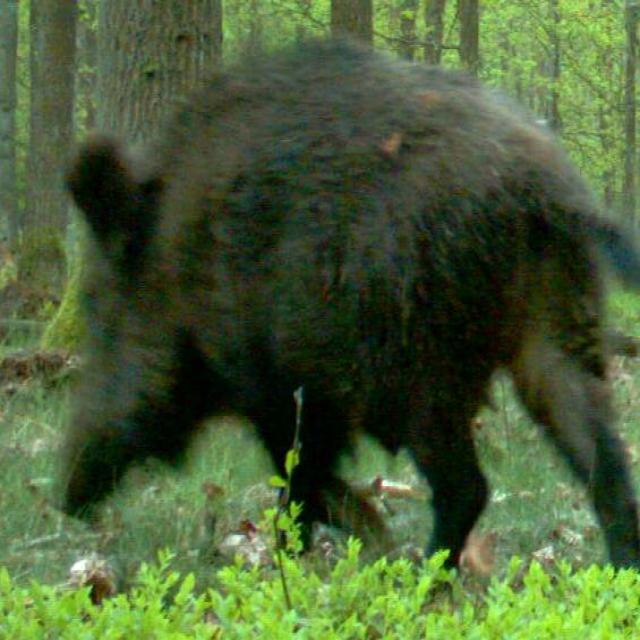pig: (29, 6, 640, 603)
